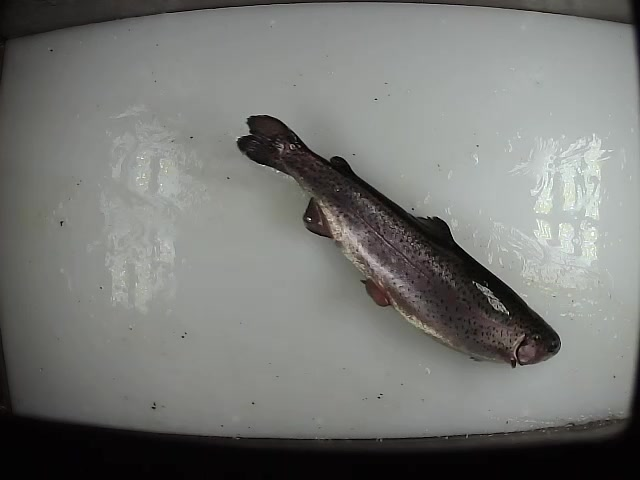fish: (233, 110, 565, 372)
